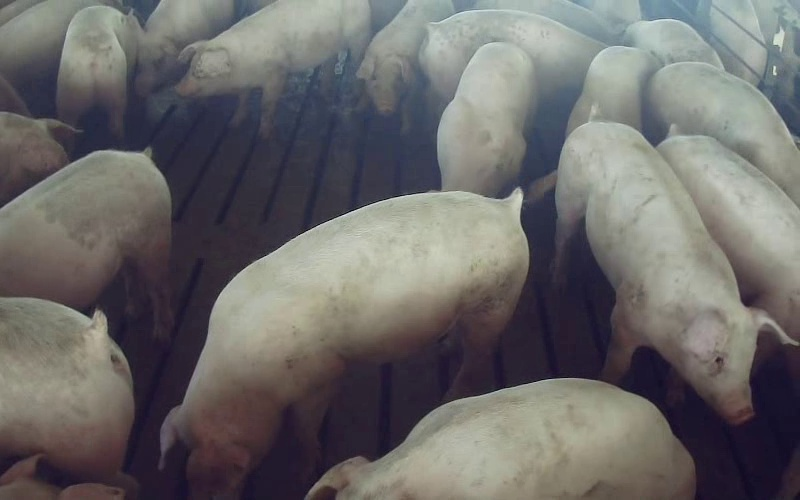pig: (556, 107, 792, 423), (307, 378, 695, 499), (0, 149, 171, 338), (657, 124, 799, 338), (646, 62, 799, 206), (419, 10, 604, 116), (437, 43, 537, 196), (56, 6, 140, 138), (566, 46, 660, 135), (624, 19, 723, 69)
